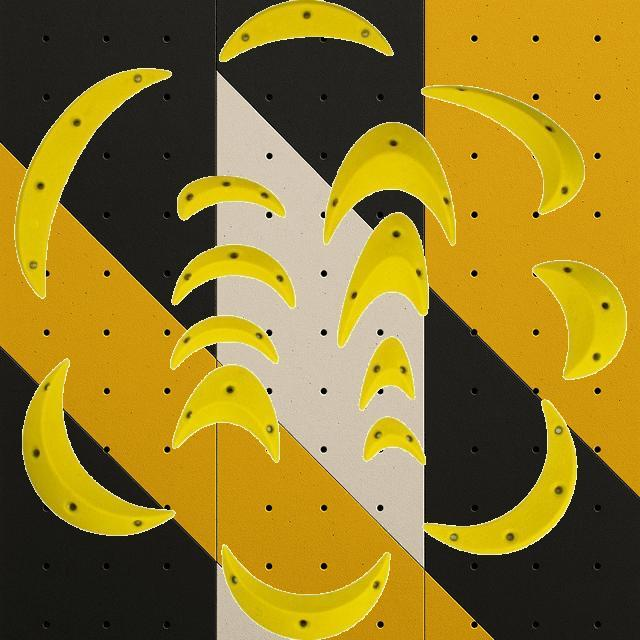Crimp: (13, 66, 170, 298), (22, 358, 175, 536), (423, 398, 577, 554), (421, 82, 585, 214), (322, 121, 456, 245), (220, 544, 390, 638), (337, 212, 429, 346), (532, 259, 626, 379), (219, 0, 393, 62), (172, 364, 280, 462), (171, 244, 295, 308), (170, 315, 278, 369), (177, 174, 286, 220), (359, 336, 415, 409), (362, 416, 426, 466)
